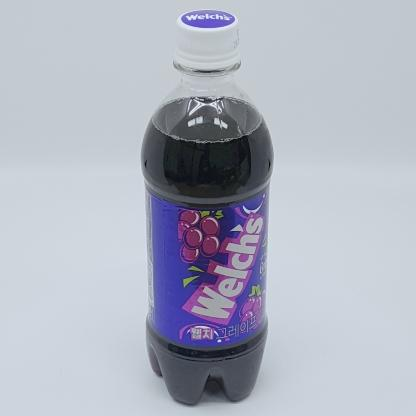-------500ml: (140, 9, 275, 408)
